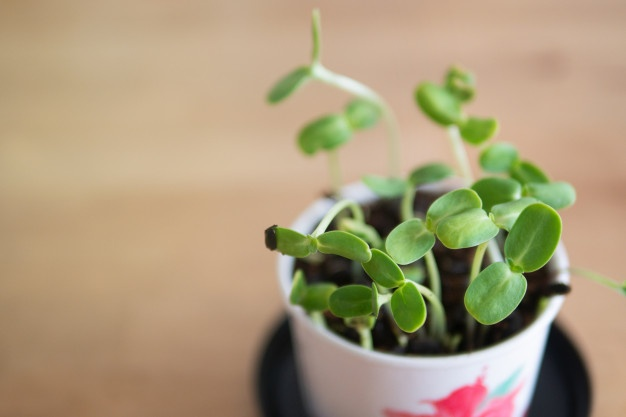girasol5-12dias: (247, 213, 433, 337), (465, 195, 562, 328)
